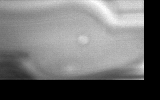cell: (75, 32, 91, 47), (60, 61, 76, 75)
